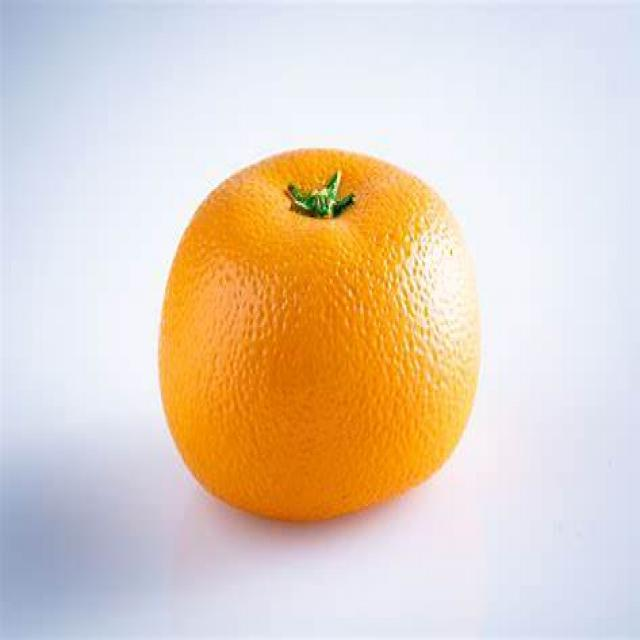Orange: (153, 140, 490, 525)
